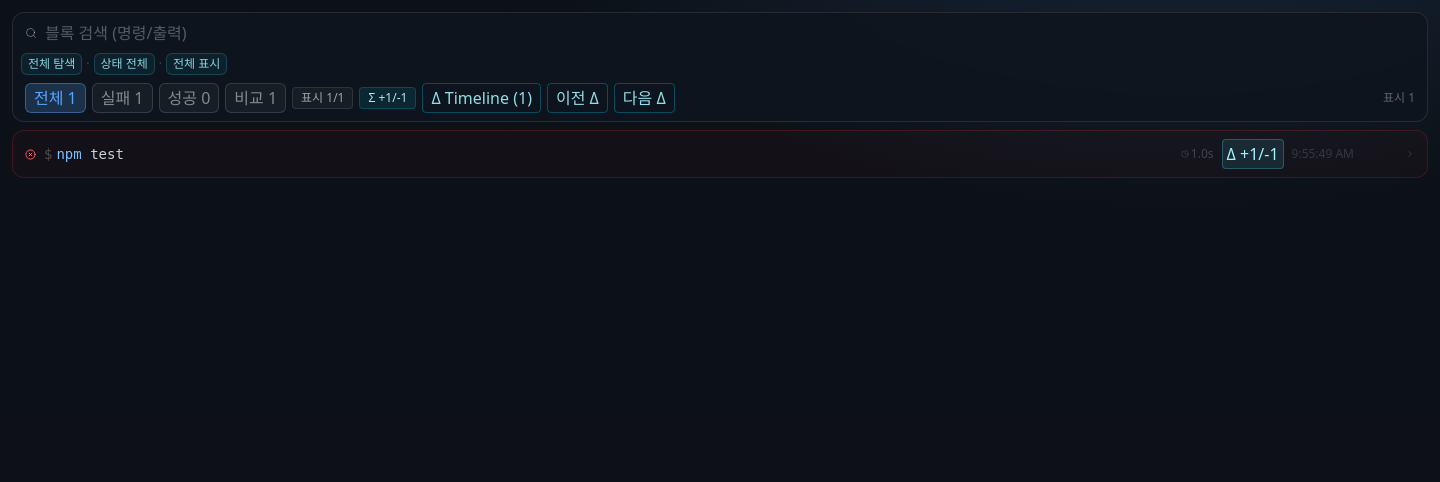
WarpListView delta actions › Δ Timeline은 Escape로 닫힘
Click the button "Δ Timeline (1)".
click(482, 98)  # box [422,83,541,113]
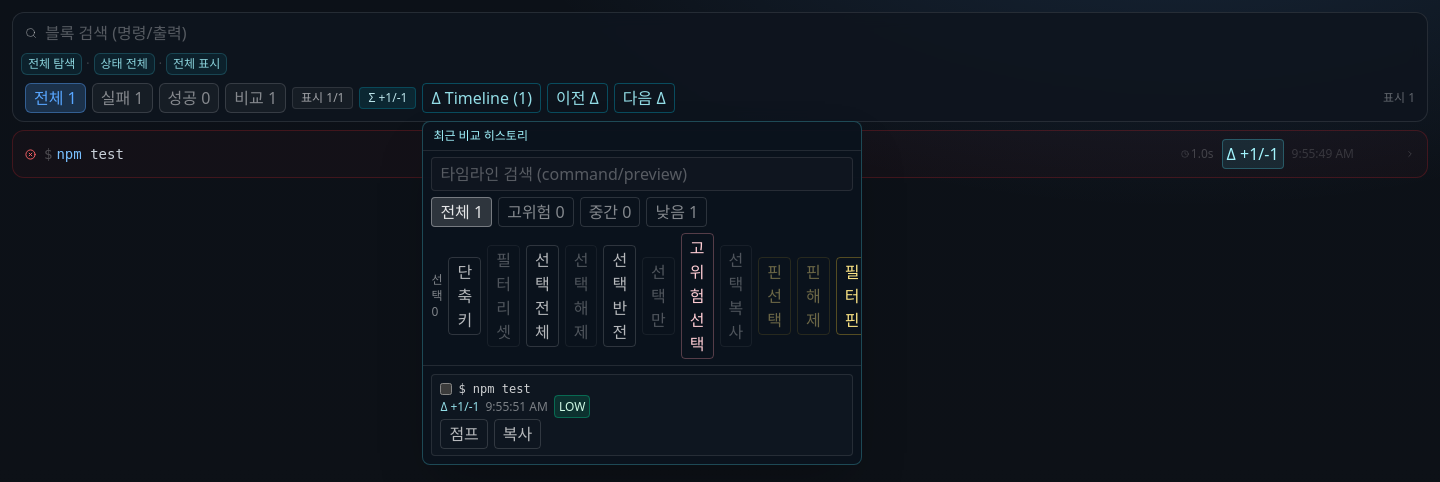
Expected: the text "최근 비교 히스토리" is shown, [423,122,861,151]
Press Escape
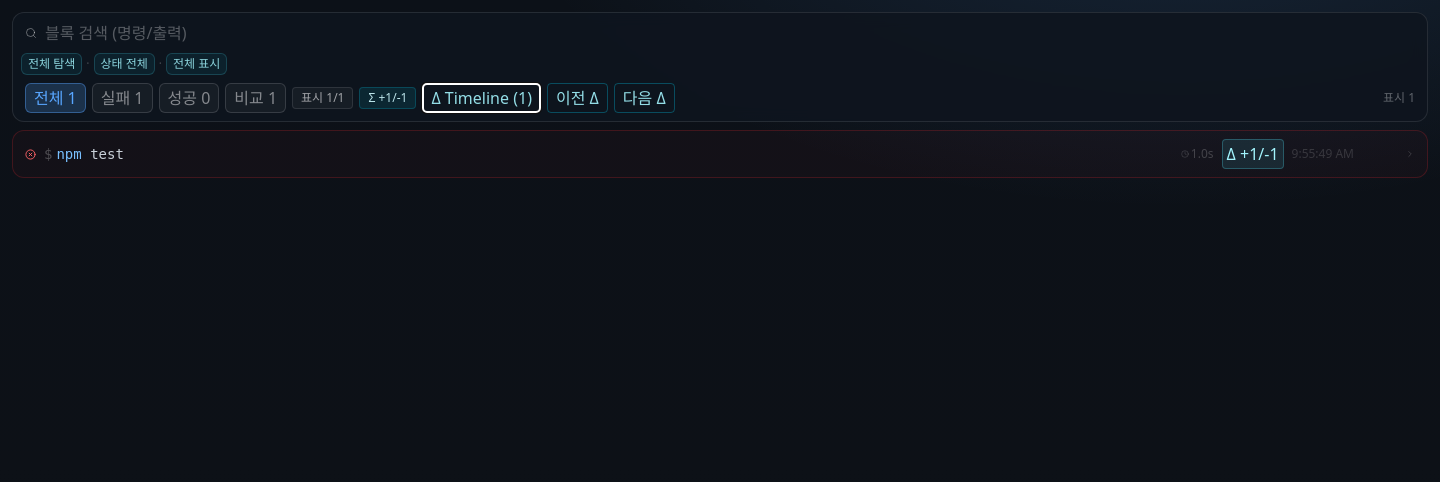
Expected: the text "최근 비교 히스토리" is gone
